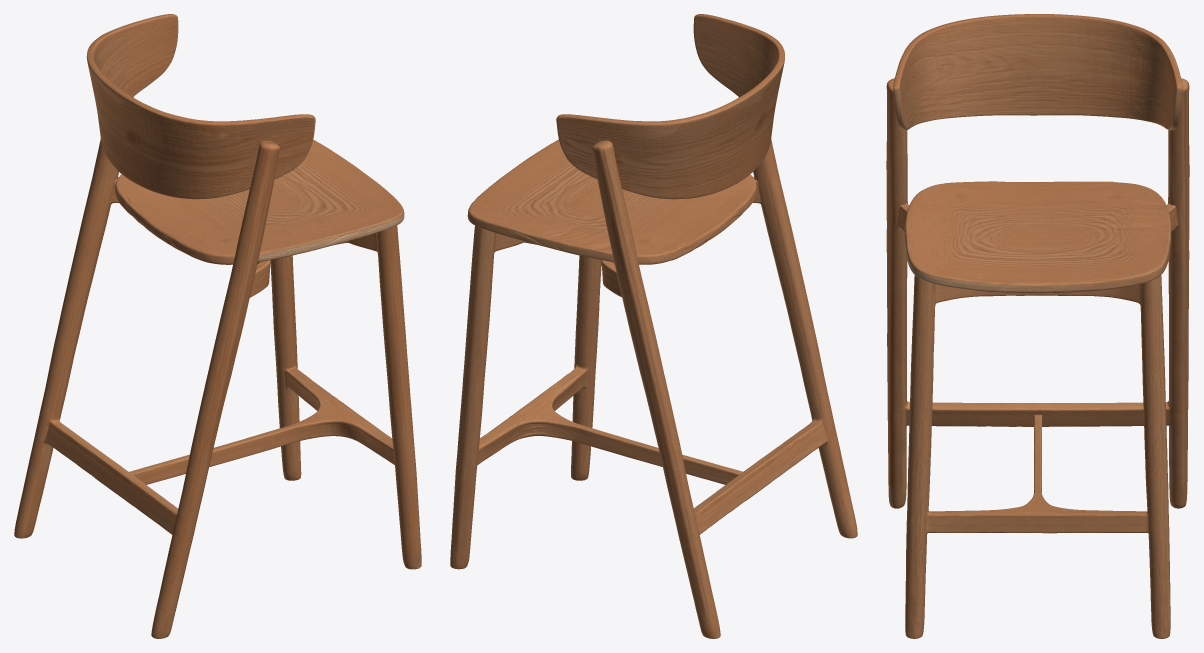
The model's file is ND-0926__2ND_VERSION_https___northdeco_com_collections_taburetes_prod_0.glb.
3 views of the same model, side by side, from view 1: azimuth 30°, elevation 25°; view 2: azimuth 150°, elevation 25°; view 3: azimuth 270°, elevation 25° (orthographic). The views are drawn at different scales.
Bounding box in the file's own units: 1.19 × 2 × 1.09.
1 material, 1 textured.
